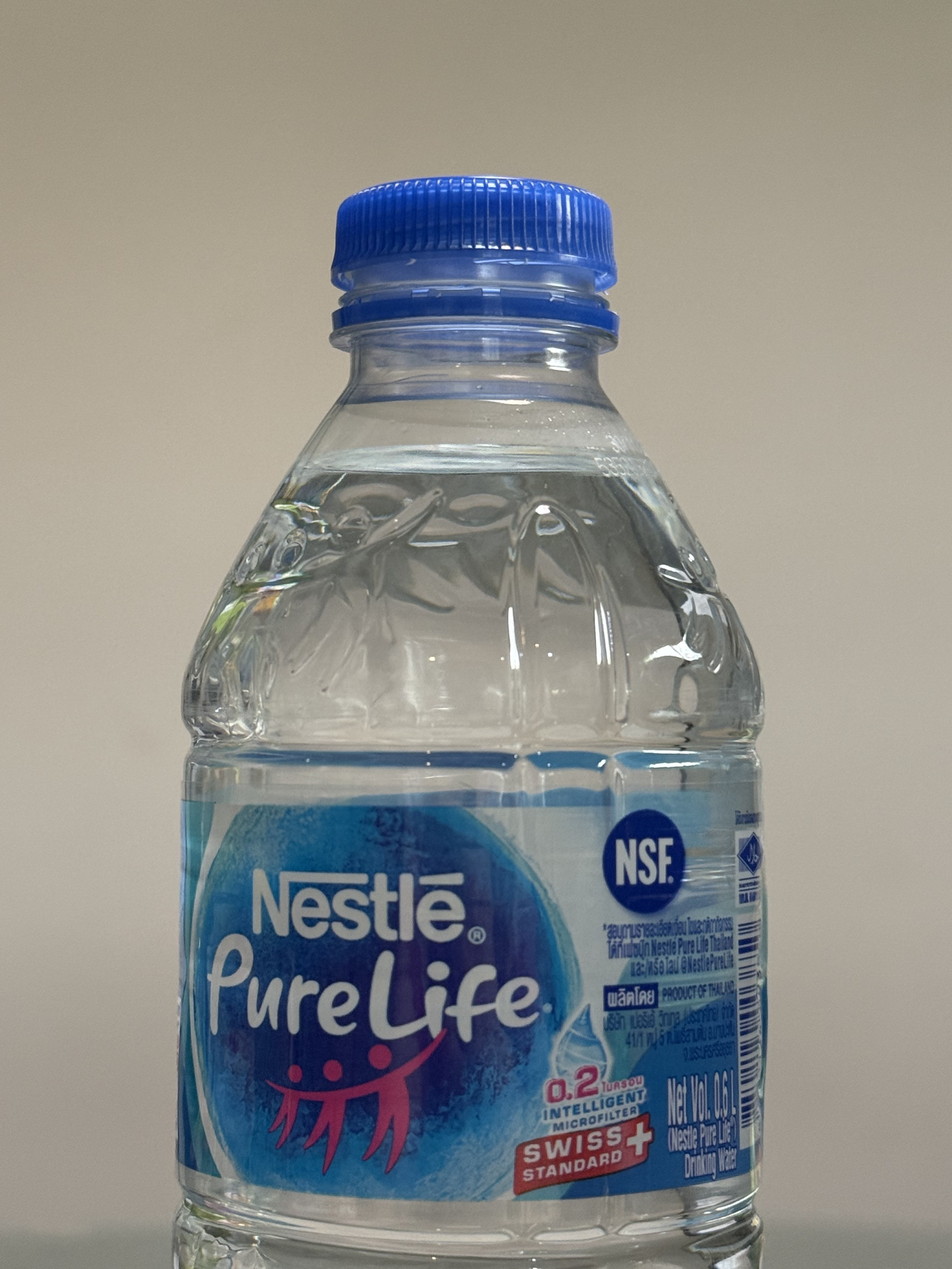half_cap: (320, 167, 626, 354)
